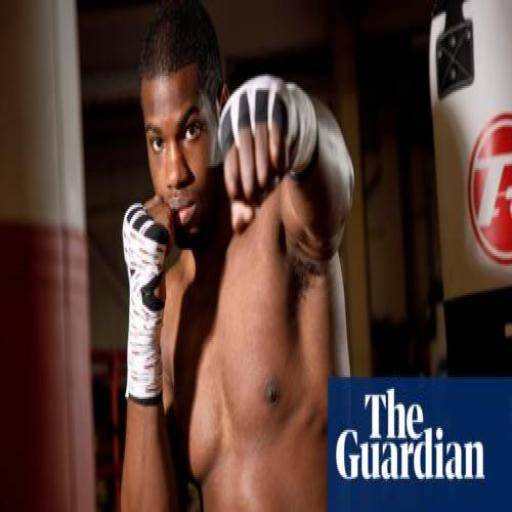boxing: (117, 0, 355, 510)
